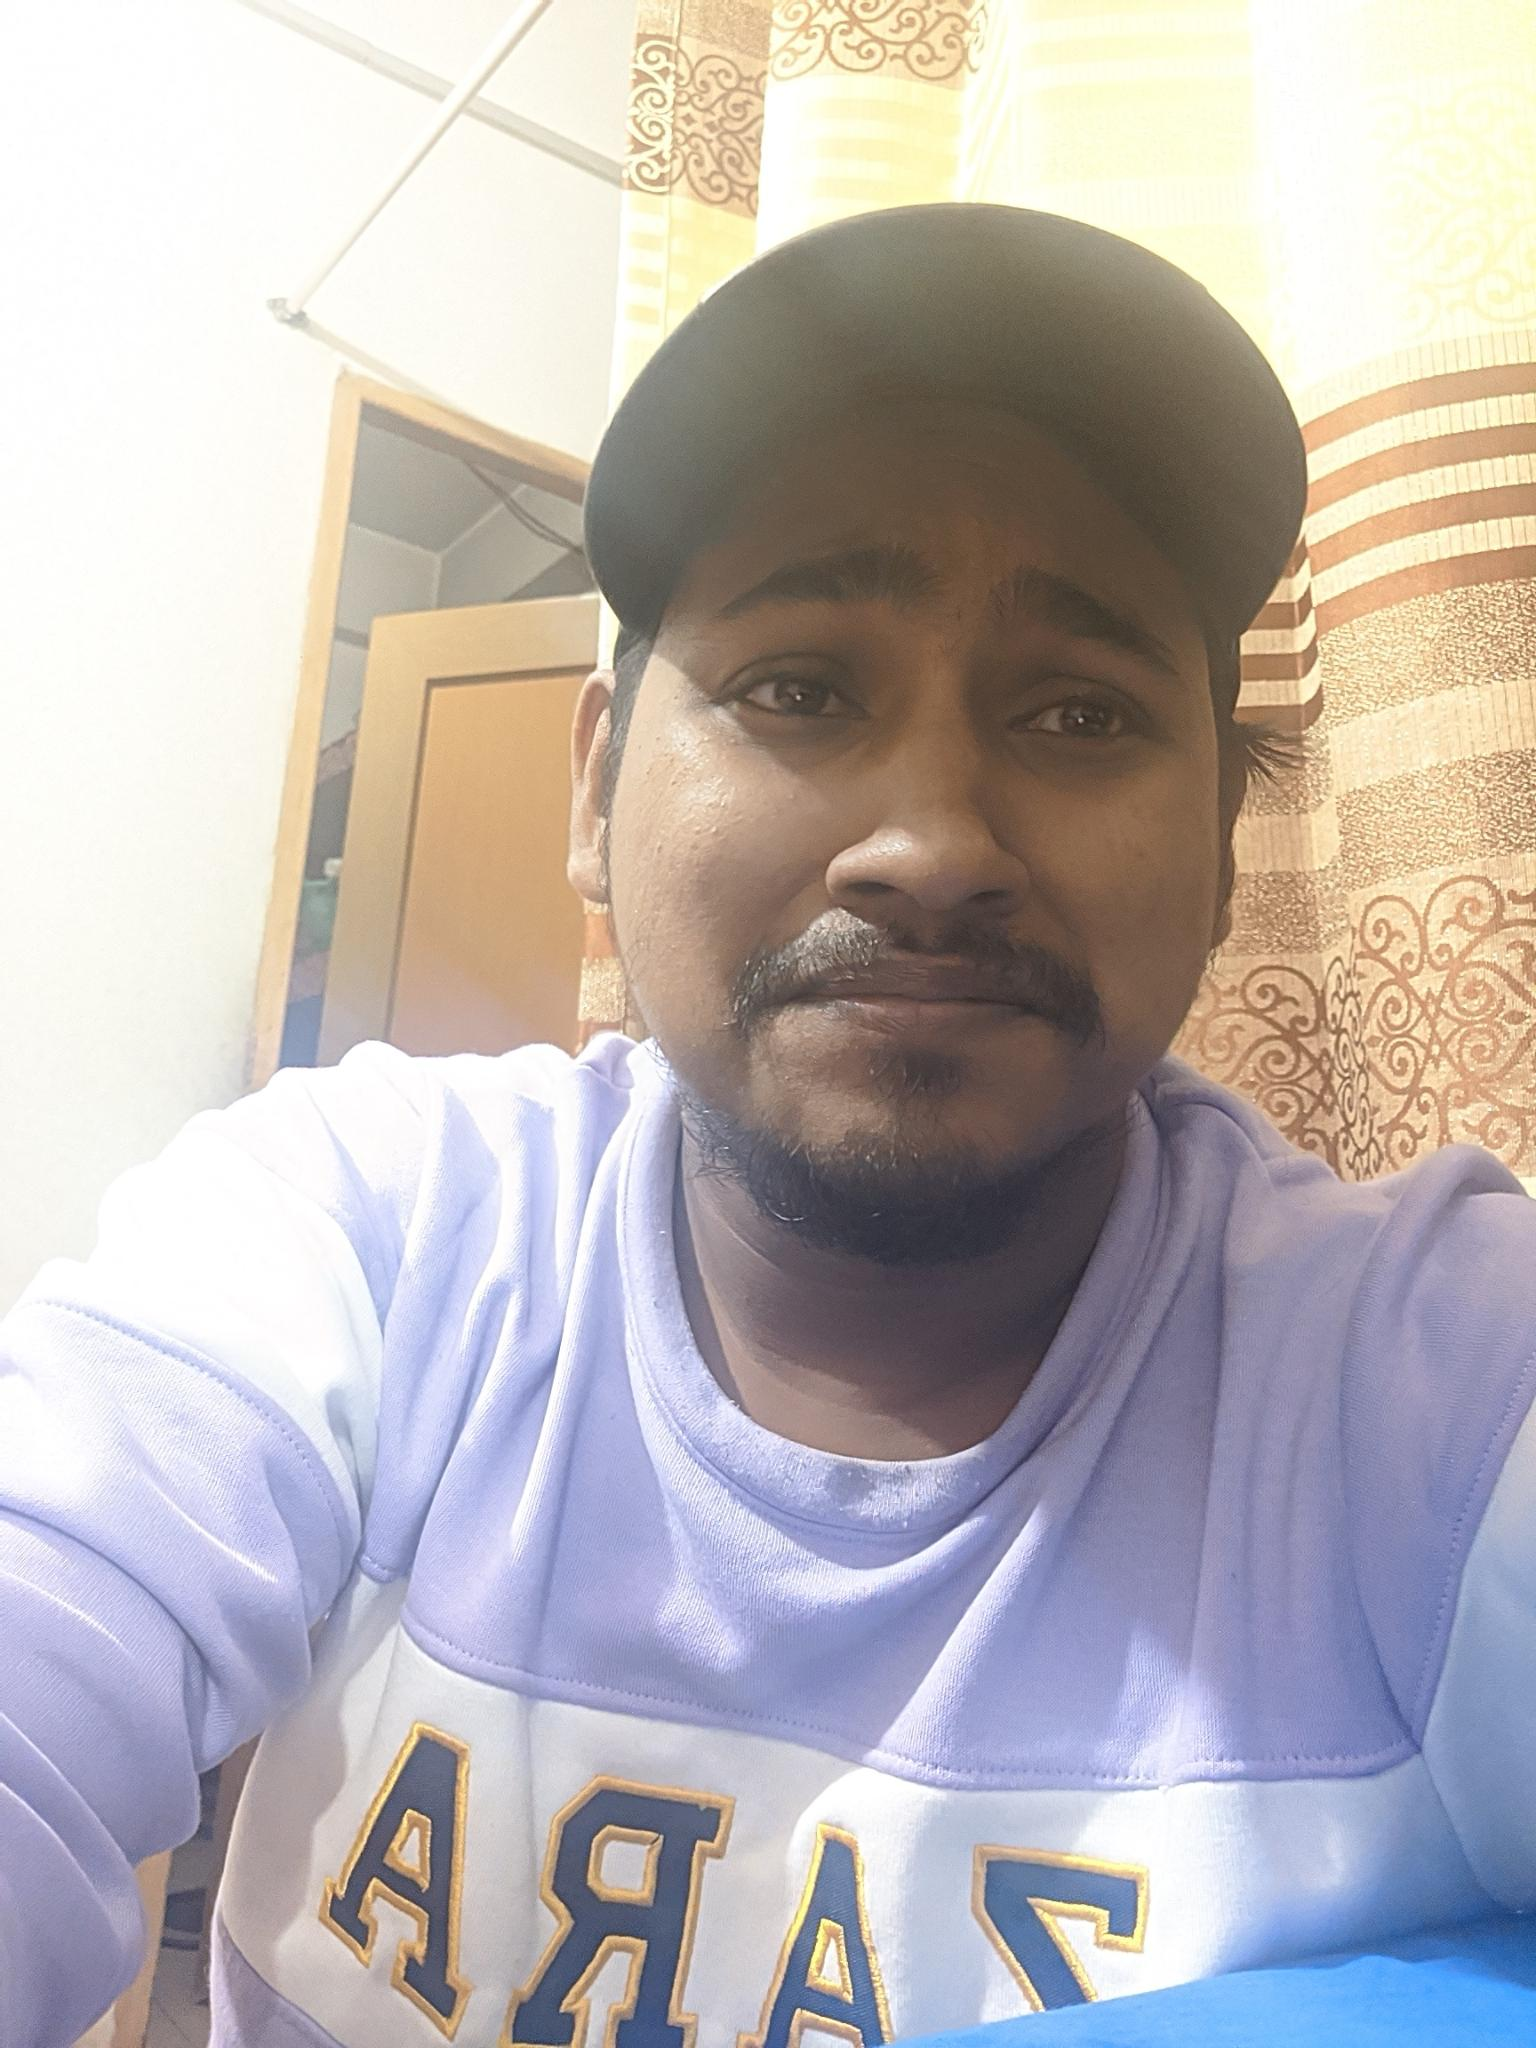Sad: (645, 472, 1218, 1208)
